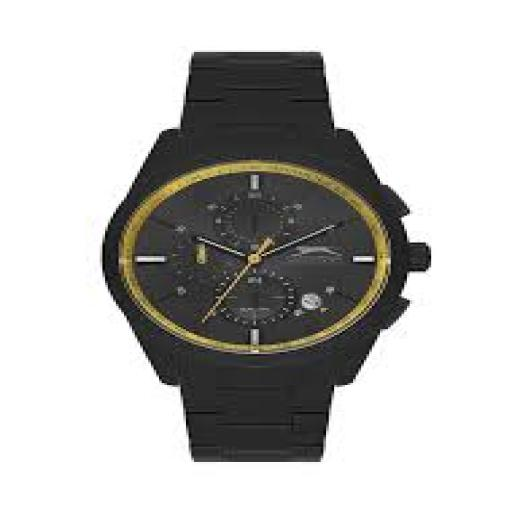KolSaati: (52, 42, 452, 474)
